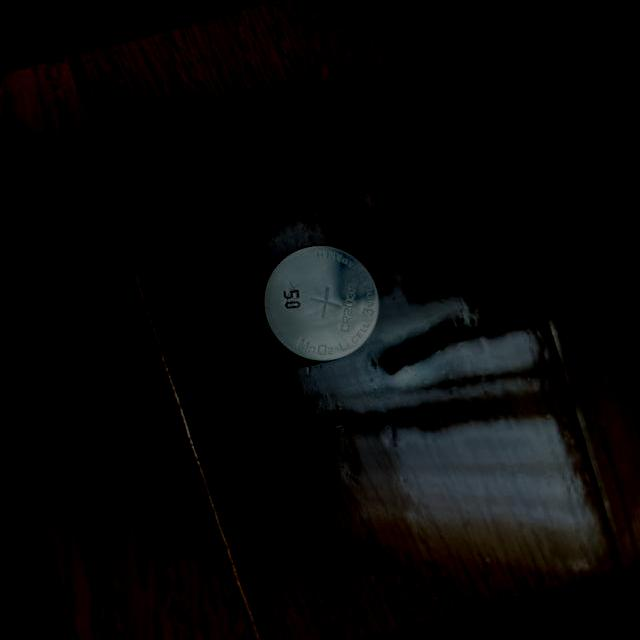COIN: (237, 230, 393, 384)
